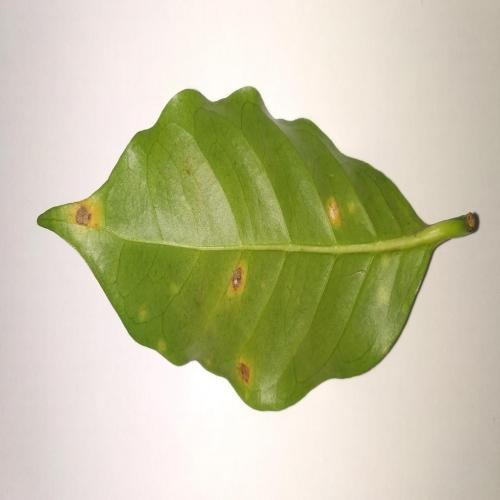phoma: (64, 195, 102, 231)
